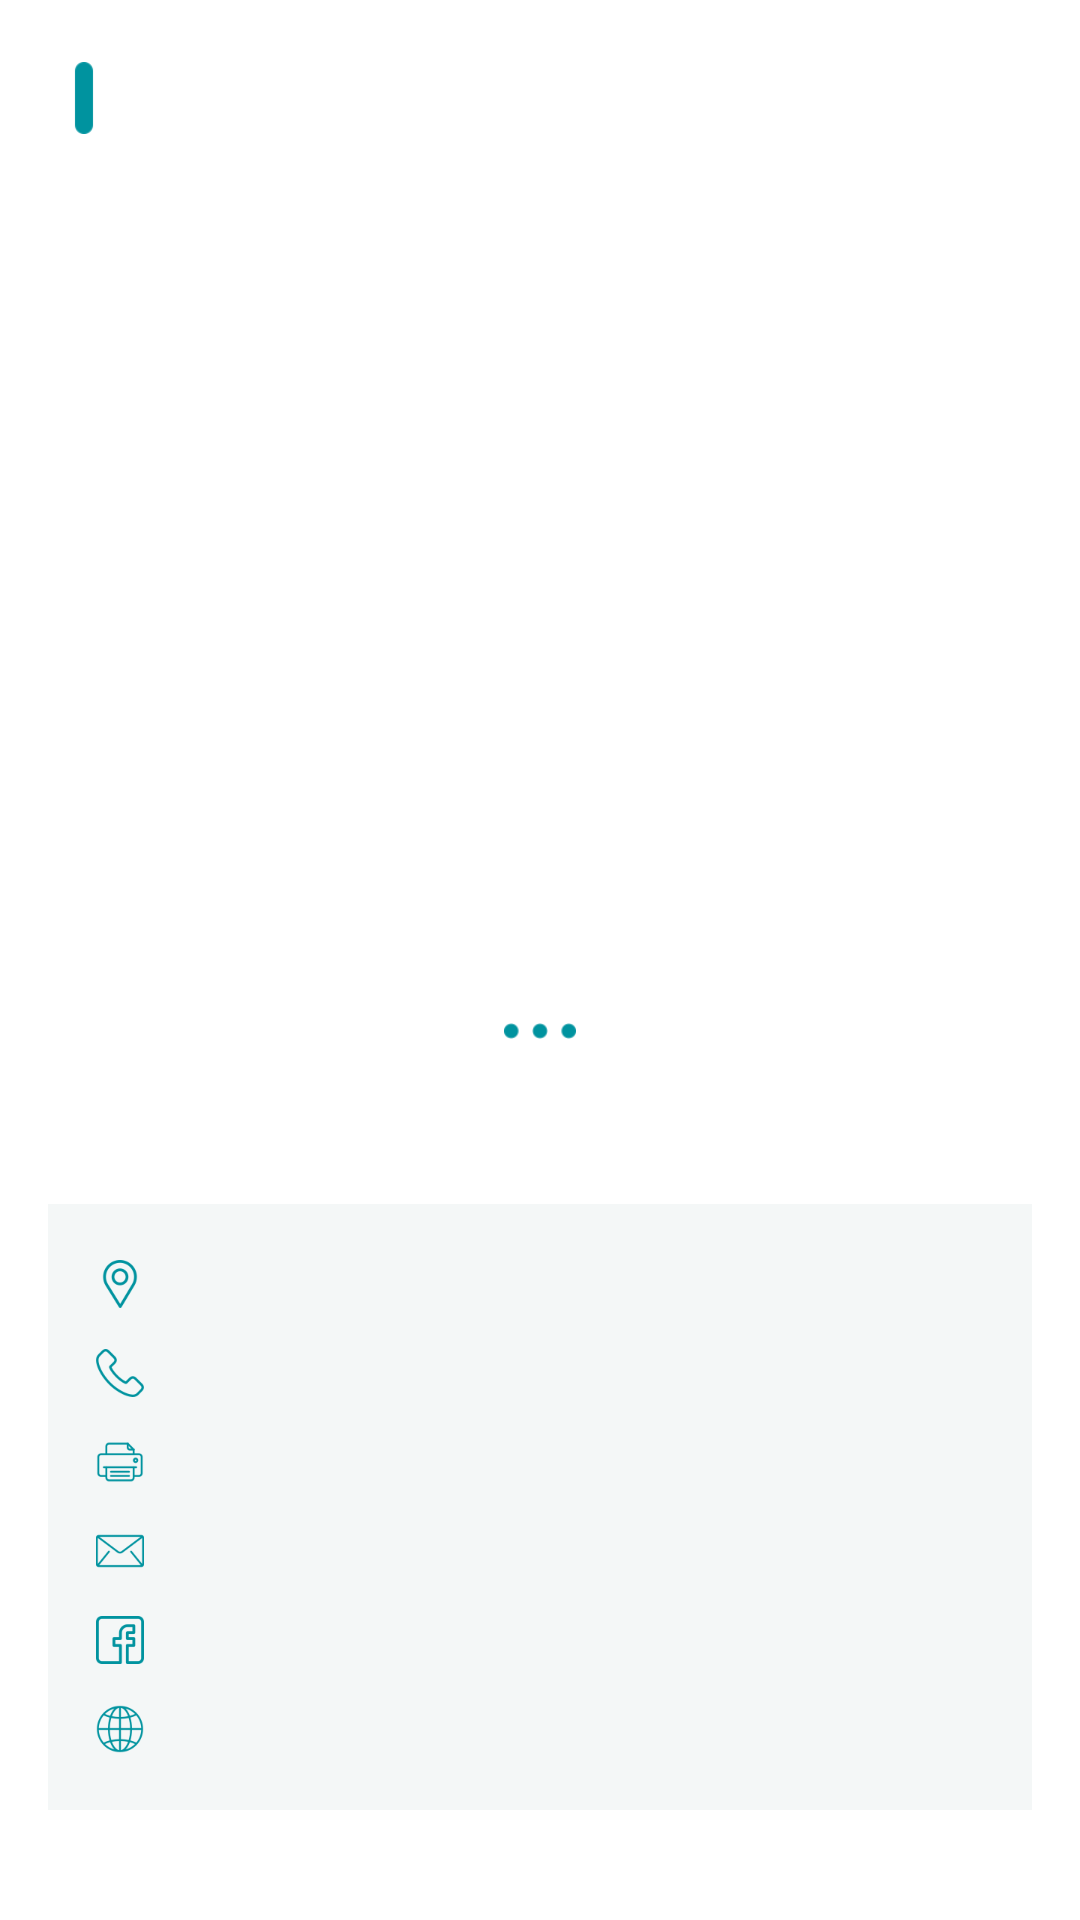

Icons on this 1080*1920 Android screen, each with its box as (x1, y1, x2, y2):
threedot wrapper: (504, 1023, 576, 1039)
